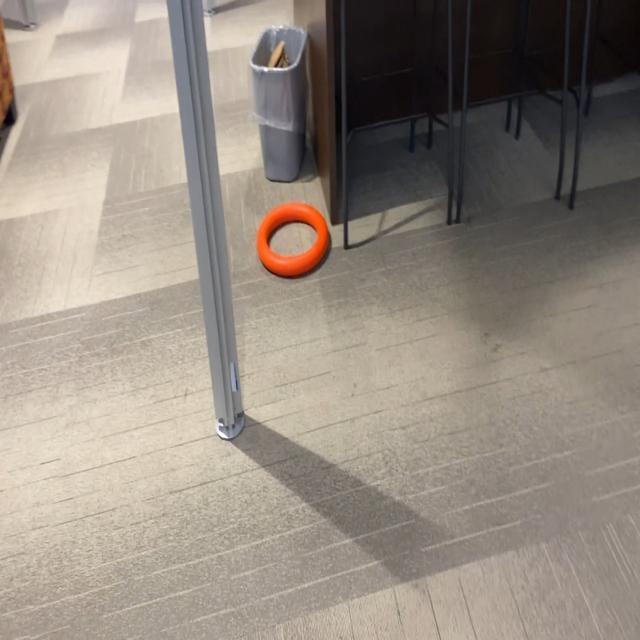note: (254, 198, 333, 278)
